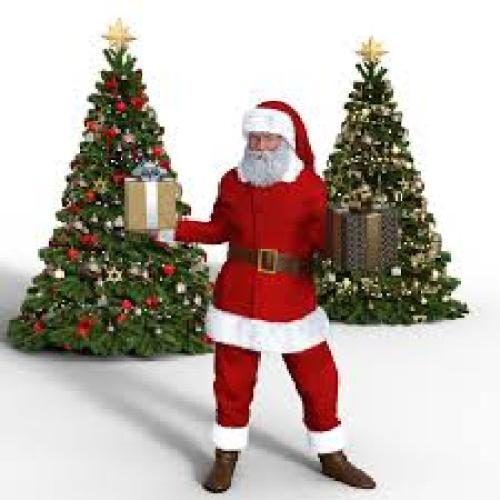Santa: (148, 97, 377, 492)
